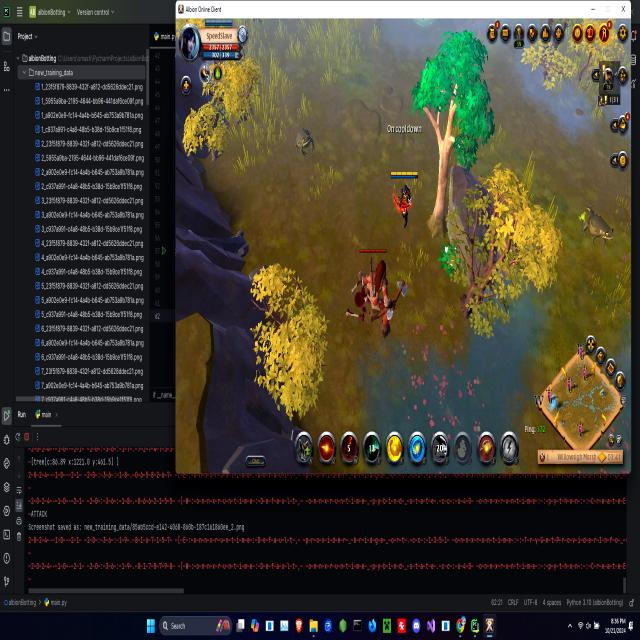hide: (438, 238, 462, 291)
ore: (356, 240, 409, 341), (580, 205, 616, 251), (293, 120, 316, 160)
red: (388, 167, 421, 222), (203, 17, 235, 28)
wisp caged: (411, 26, 496, 241)
